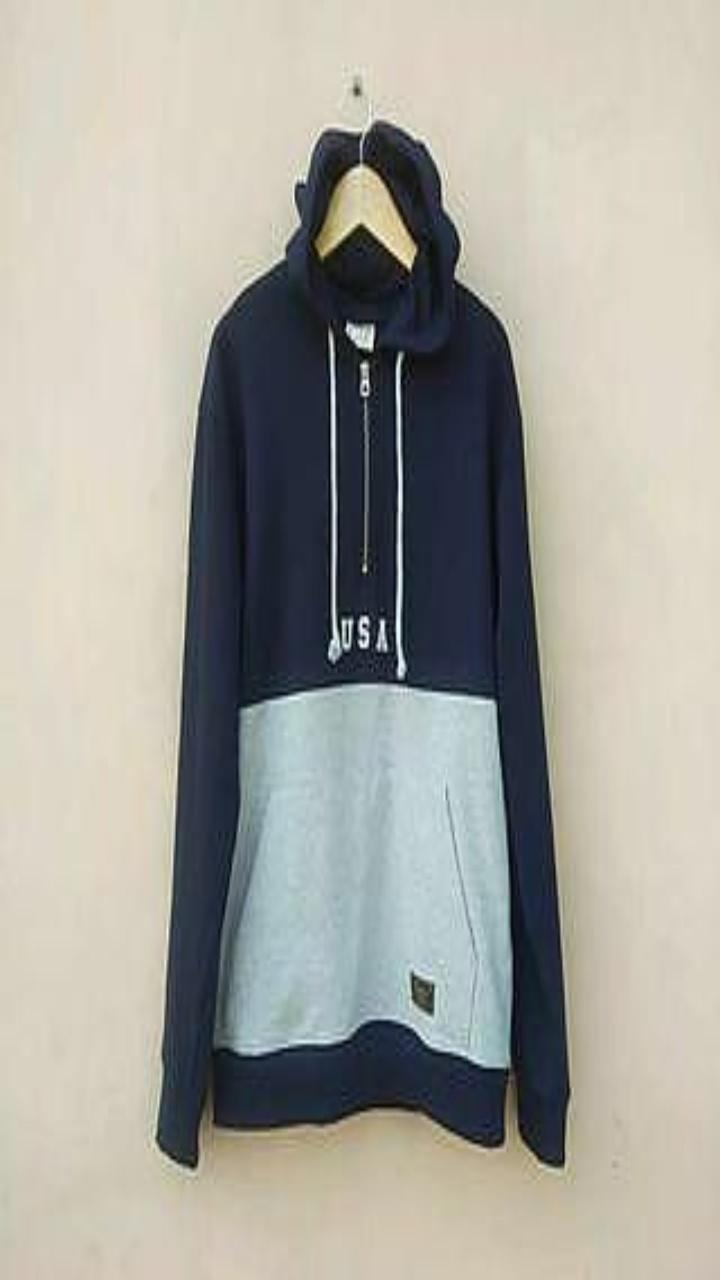Hoodie: (156, 119, 569, 1166)
